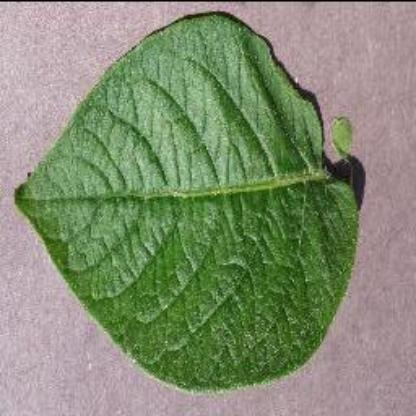Healthy-plant: (13, 9, 366, 399)
